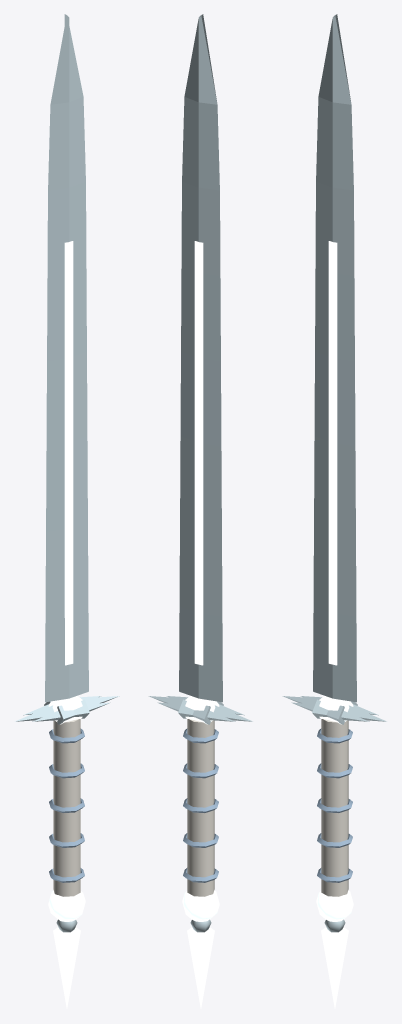
The model's file is sword_frost.glb.
3 renders of one model, left to right at view 1: azimuth 30°, elevation 25°; view 2: azimuth 150°, elevation 25°; view 3: azimuth 330°, elevation 25°, orthographic.
Parts seen in each view (by area): view 1: Sword; view 2: Sword; view 3: Sword.
Part boxes in pixels (bbox=[...]): Sword: bbox=[15, 14, 119, 1008]; Sword: bbox=[148, 14, 252, 1008]; Sword: bbox=[282, 14, 386, 1008].
Size of the model in its own units: 0.14 by 1.25 by 0.0448.
